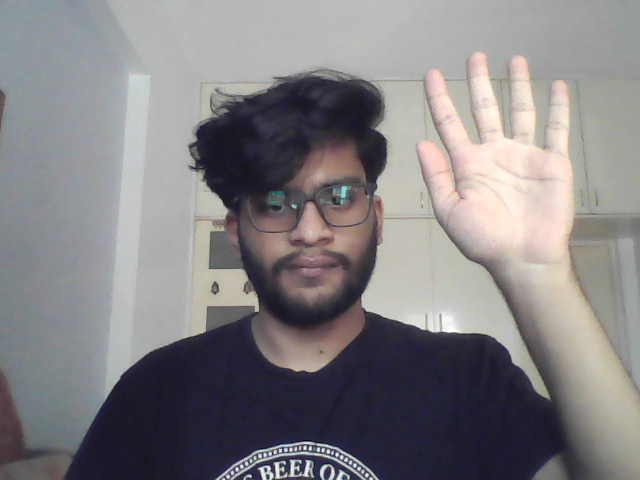Goodbye: (414, 49, 587, 267)
